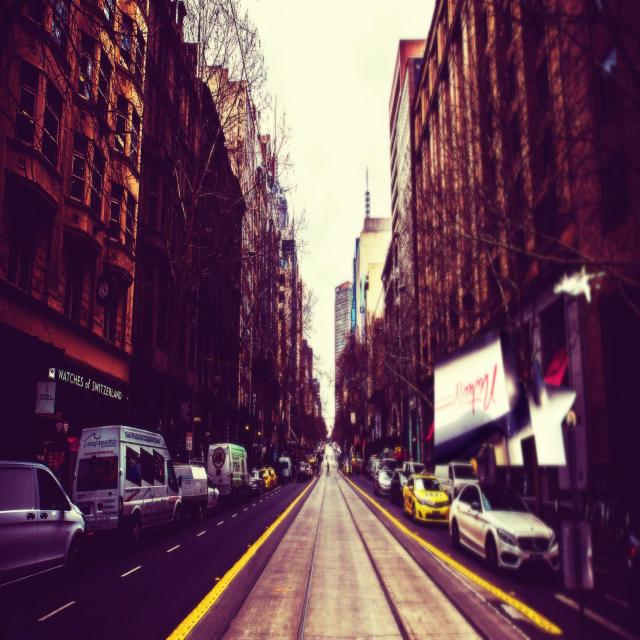airplane: (434, 271, 591, 463)
